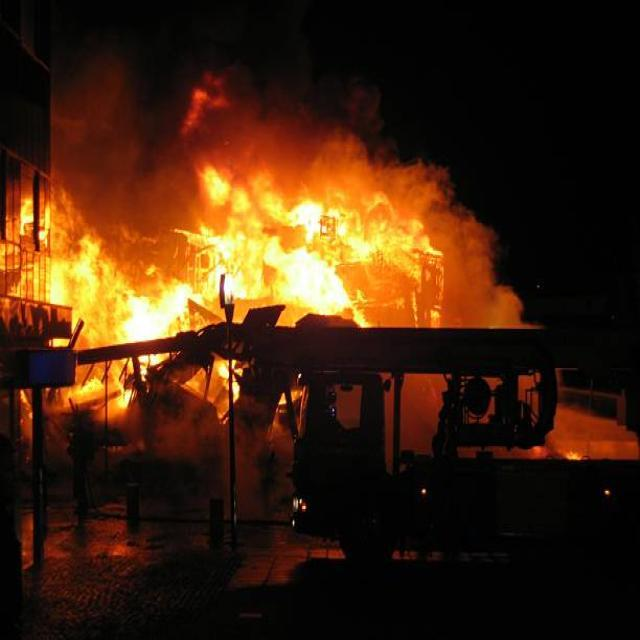Fire: (48, 180, 424, 348)
Smoke: (118, 35, 518, 328)
